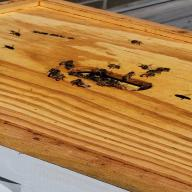Bee: (120, 34, 155, 50), (4, 28, 36, 42), (46, 68, 70, 82), (106, 61, 124, 72), (138, 63, 152, 71)
